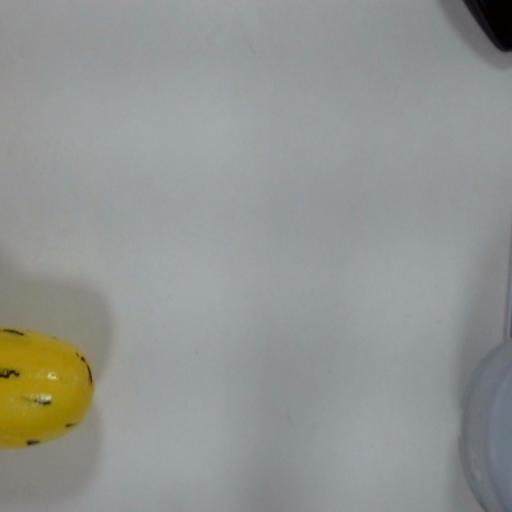Defective: (2, 297, 101, 480)
